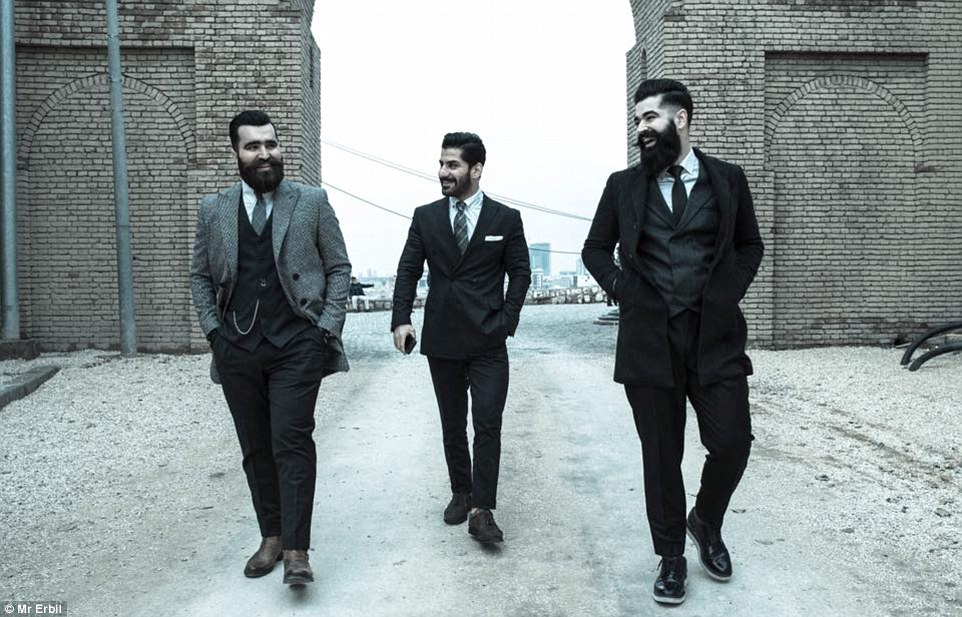feet: (638, 502, 747, 611), (233, 508, 323, 591), (436, 463, 514, 554)
